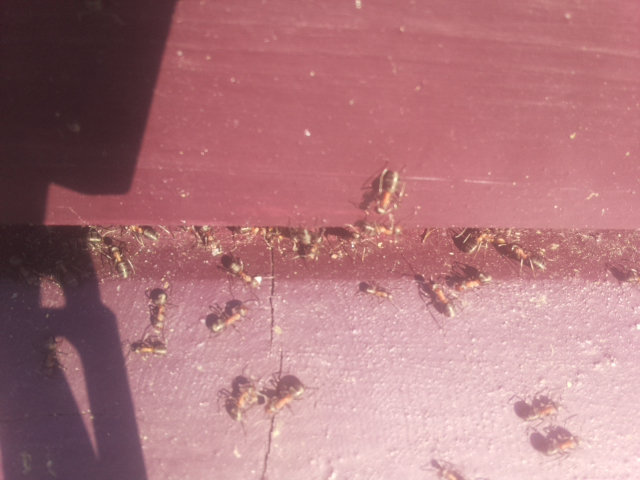ant: (209, 239, 269, 298), (408, 268, 466, 324), (260, 379, 310, 420), (0, 248, 45, 289), (514, 394, 568, 423), (203, 302, 255, 332), (104, 235, 135, 285), (374, 164, 403, 217), (148, 282, 170, 335), (39, 334, 67, 375), (53, 253, 80, 290), (456, 269, 495, 292), (355, 219, 404, 236), (353, 279, 393, 299), (428, 458, 462, 480), (121, 224, 161, 238)
